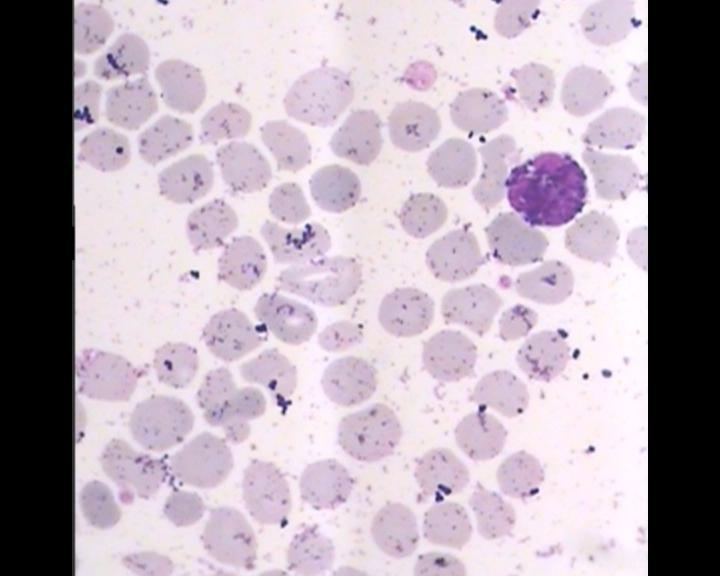baso: (499, 146, 590, 231)
